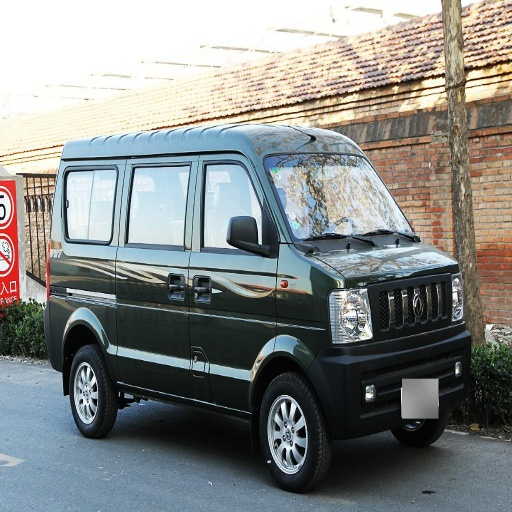front_bumper: (317, 272, 472, 443)
front_right_door: (188, 153, 281, 399)
front_right_light: (328, 280, 374, 345)
trunk: (47, 289, 87, 355)
